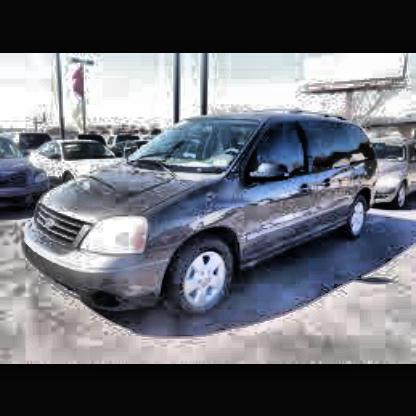Ford Freestar Minivan 2007: (20, 116, 381, 319)
